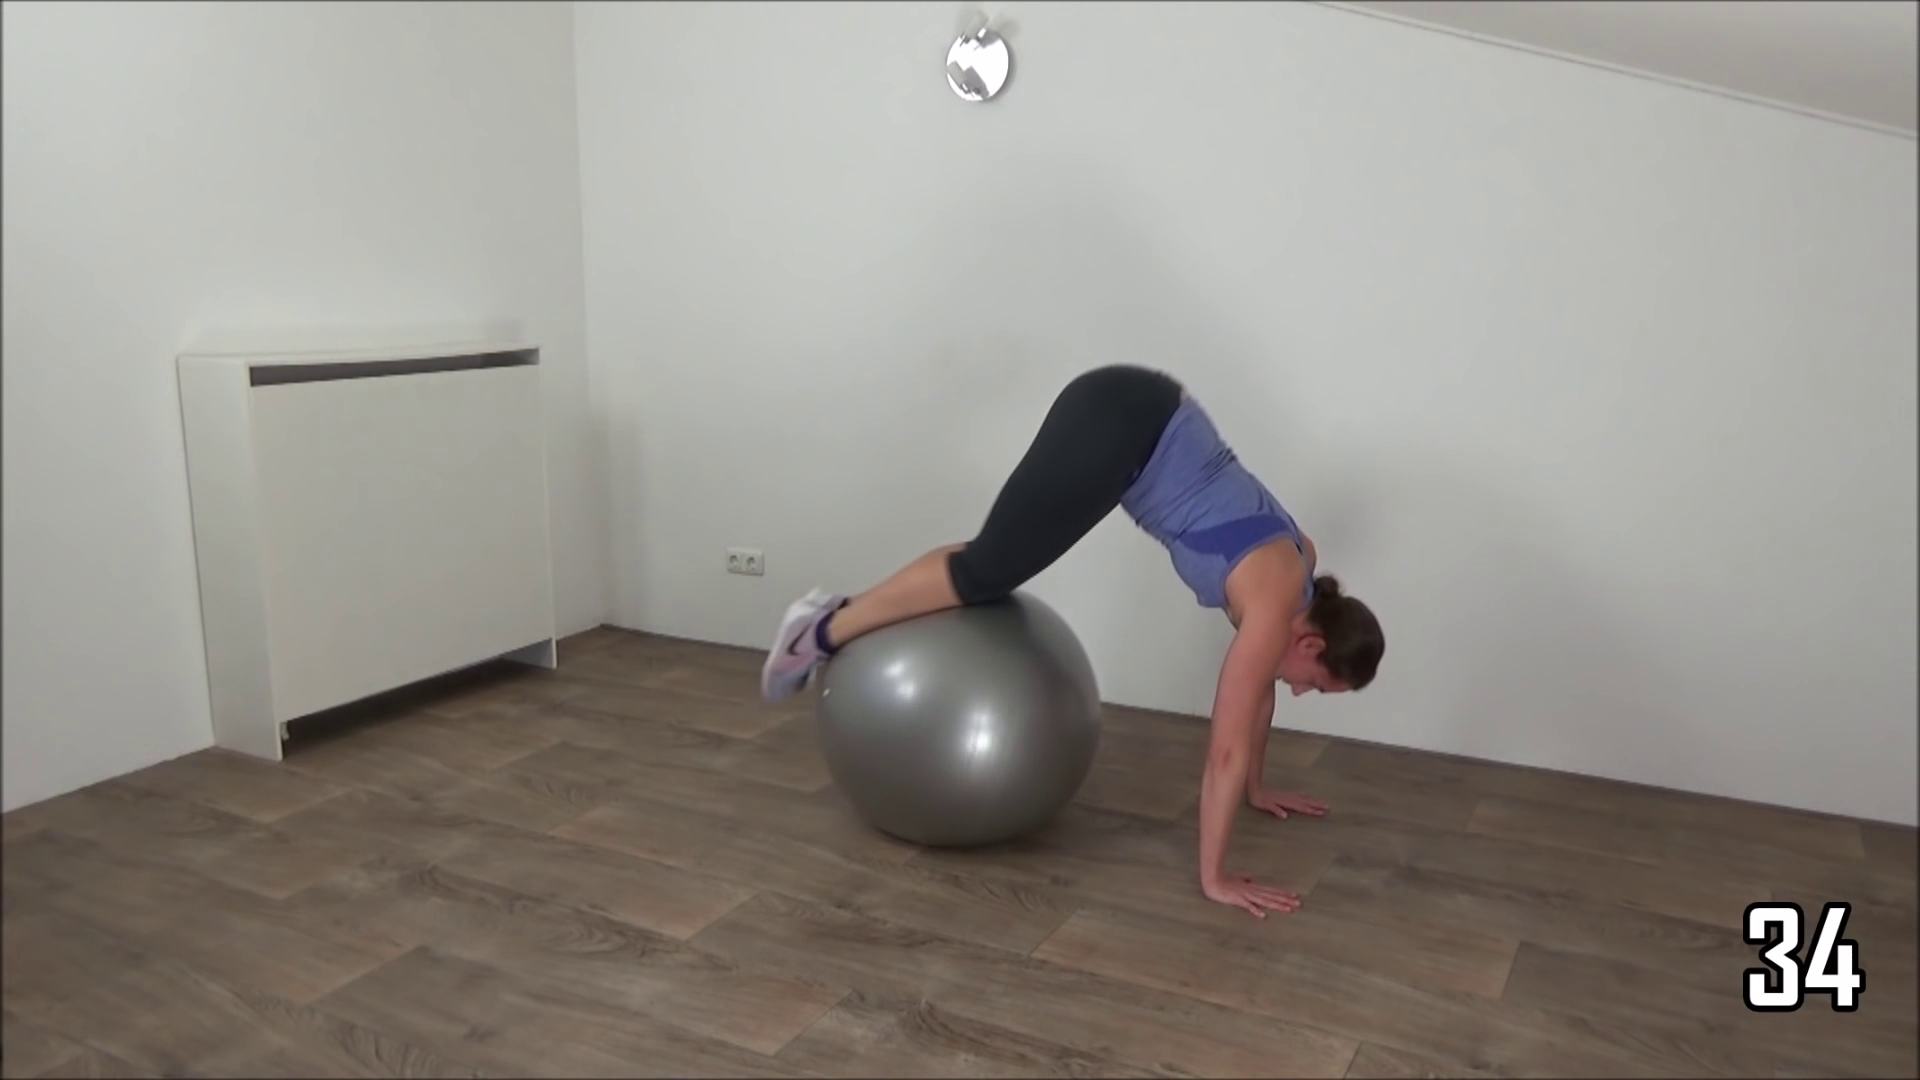yogaball: (796, 595, 1114, 876)
